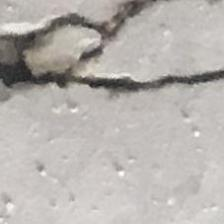Crack: (0, 10, 224, 113)
